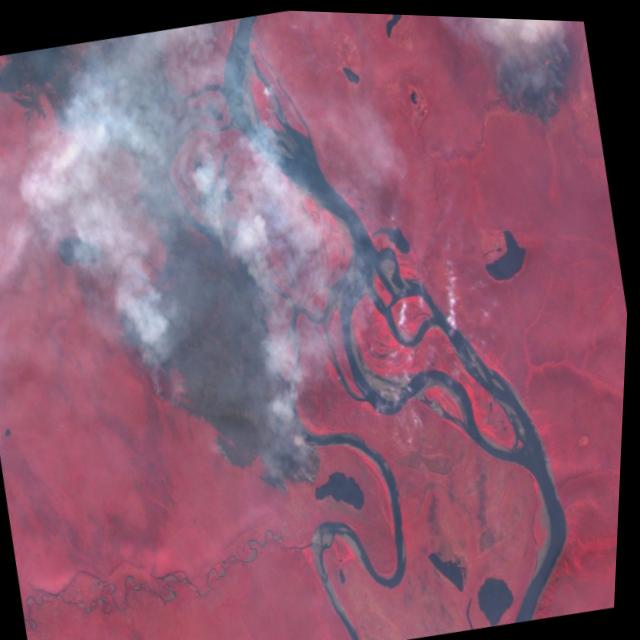fire: (105, 181, 347, 524), (476, 14, 595, 141)
